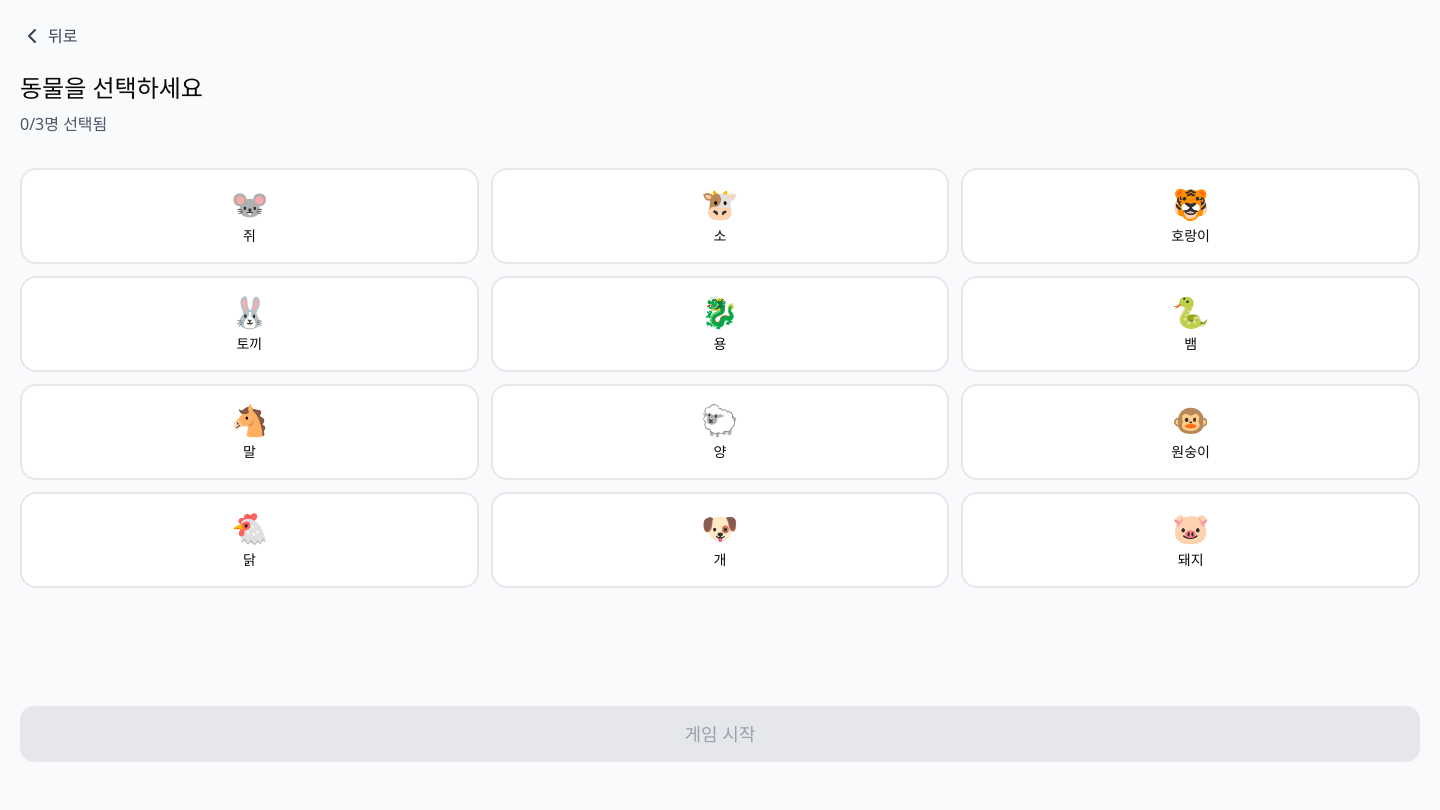
Scenario: AnimalSelection › deselects animal when clicked again
What coordinates should you click on to do the following:
click the text "쥐"
I would click on:
 (249, 236)
Its box is [243,226,256,246].
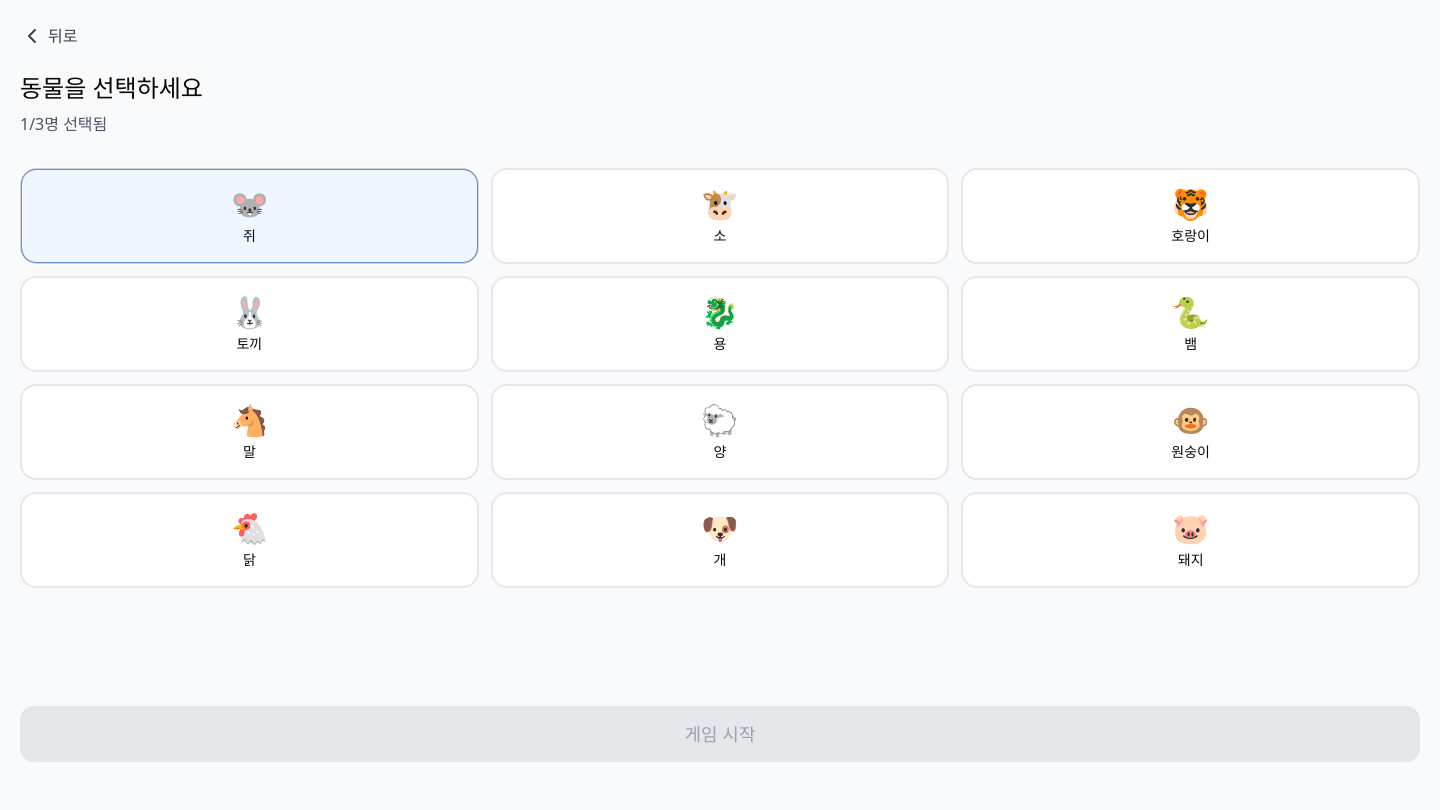
expect the text "1/3명 선택됨" is shown: met, box [20,113,107,135]
What coordinates should you click on to do the following:
click the text "쥐"
I would click on:
 (249, 236)
Its box is [243,226,256,246].
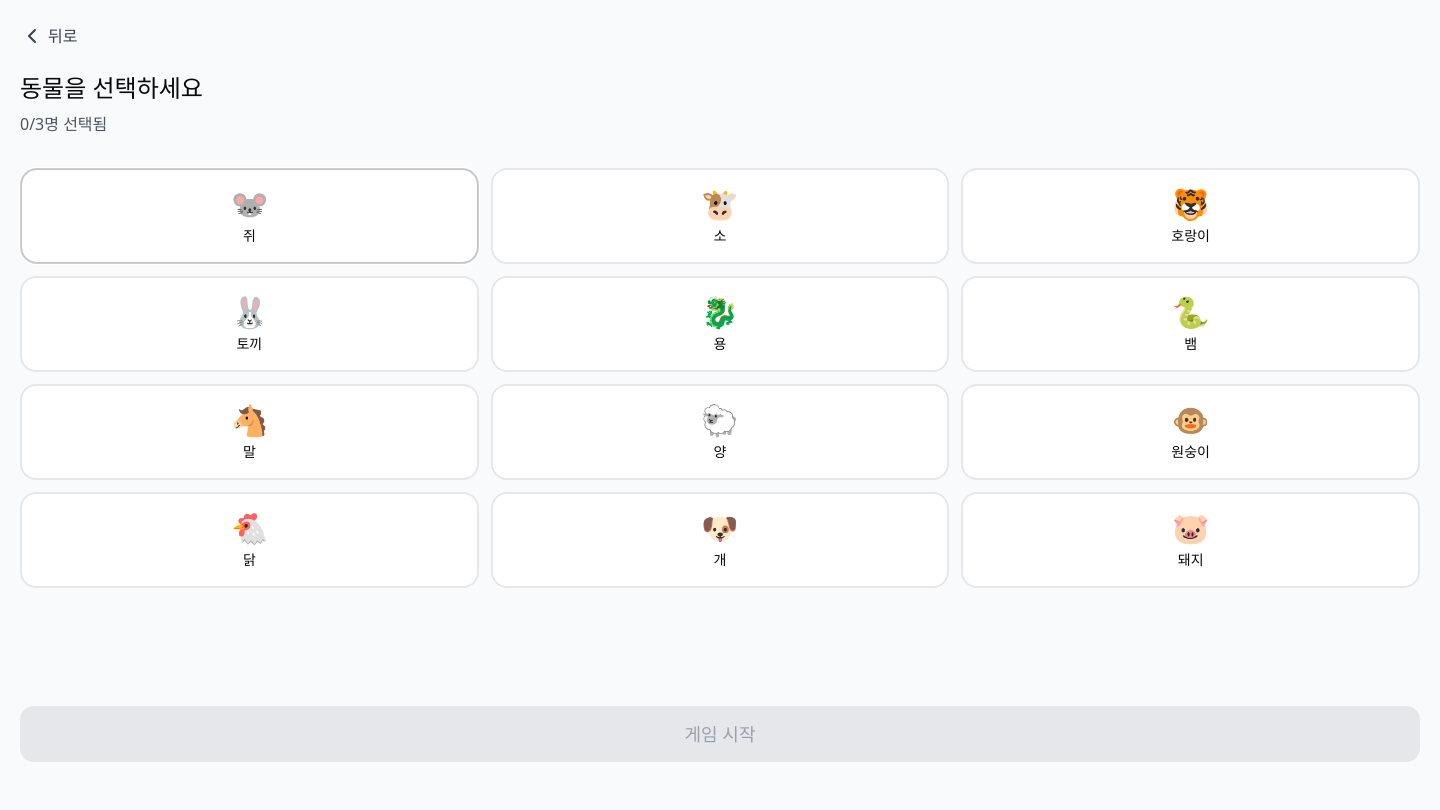
expect the text "0/3명 선택됨" is shown: met, box [20,113,107,135]
